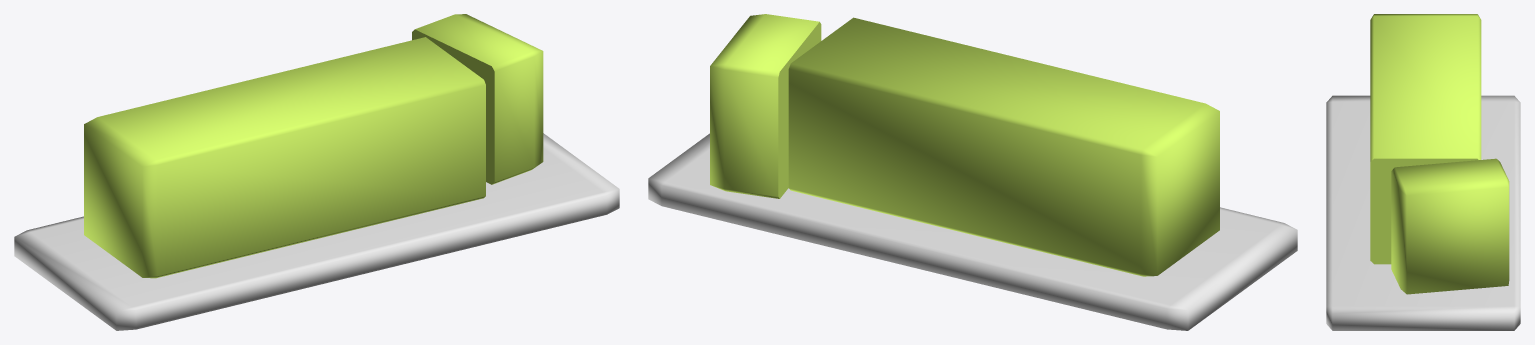
File: Butter.fbx
3 views of the same model, side by side, from view 1: azimuth 30°, elevation 25°; view 2: azimuth 150°, elevation 25°; view 3: azimuth 270°, elevation 25° (orthographic). The views are drawn at different scales.
Visible parts, largest first — view 1: Cube.083; view 2: Cube.083; view 3: Cube.083.
Boxes of the visible parts, x1,y1,x2,y2 form: Cube.083: (14,14,619,330); Cube.083: (648,14,1297,330); Cube.083: (1326,14,1520,330).
Size of the model in its own units: 29.24 by 7.75 by 10.99.
